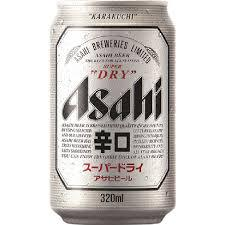beer: (49, 1, 178, 224)
